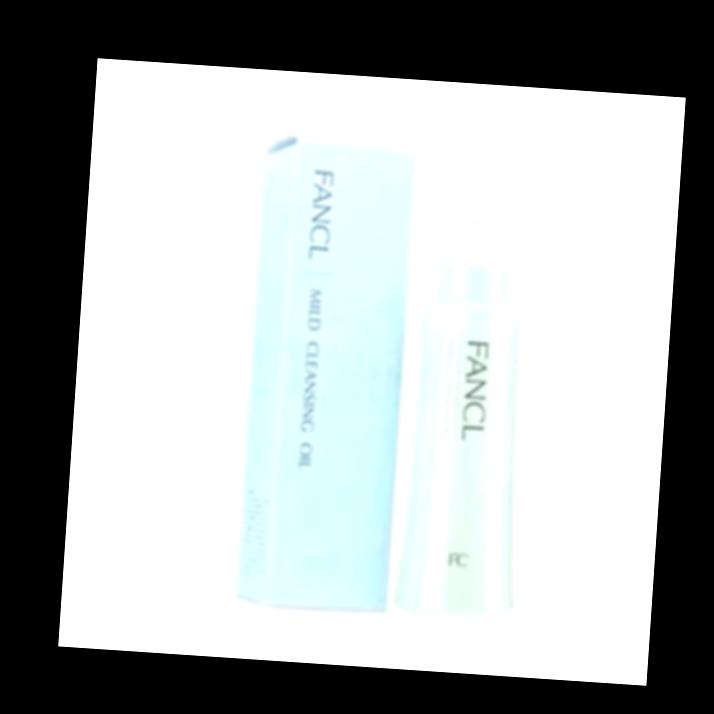cosmetic: (393, 166, 553, 614)
